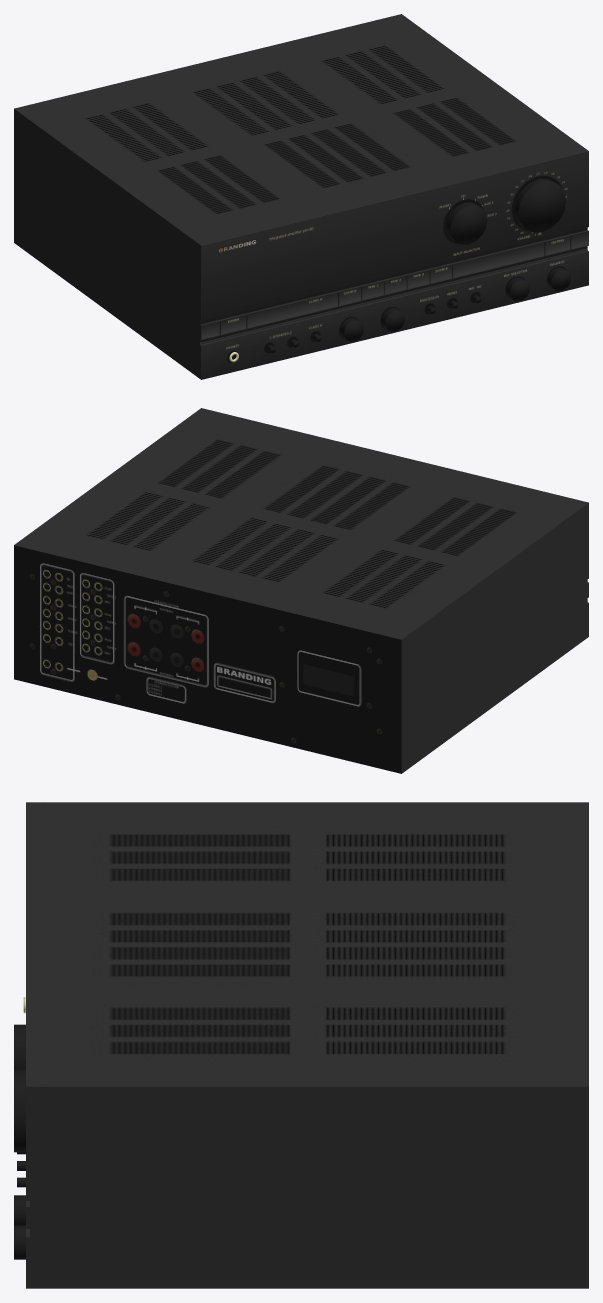
File: scopia-stereo_amplifier-quality-v2.glb
3 views of the same model, one above another, from view 1: azimuth 30°, elevation 25°; view 2: azimuth 150°, elevation 25°; view 3: azimuth 270°, elevation 25° (orthographic). The views are drawn at different scales.
Visible parts, largest first — view 1: Cube, Circle; view 2: Cube; view 3: Cube, Circle.
Boxes of the visible parts, x1=… form: Cube: x1=14, y1=14, x2=588, y2=379; Circle: x1=267, y1=178, x2=570, y2=353; Cube: x1=14, y1=408, x2=588, y2=773; Cube: x1=26, y1=802, x2=588, y2=1288; Circle: x1=14, y1=1024, x2=25, y2=1259.
Bounding box in the file's own units: 0.454 × 0.168 × 0.388.
4 materials, 1 textured.
